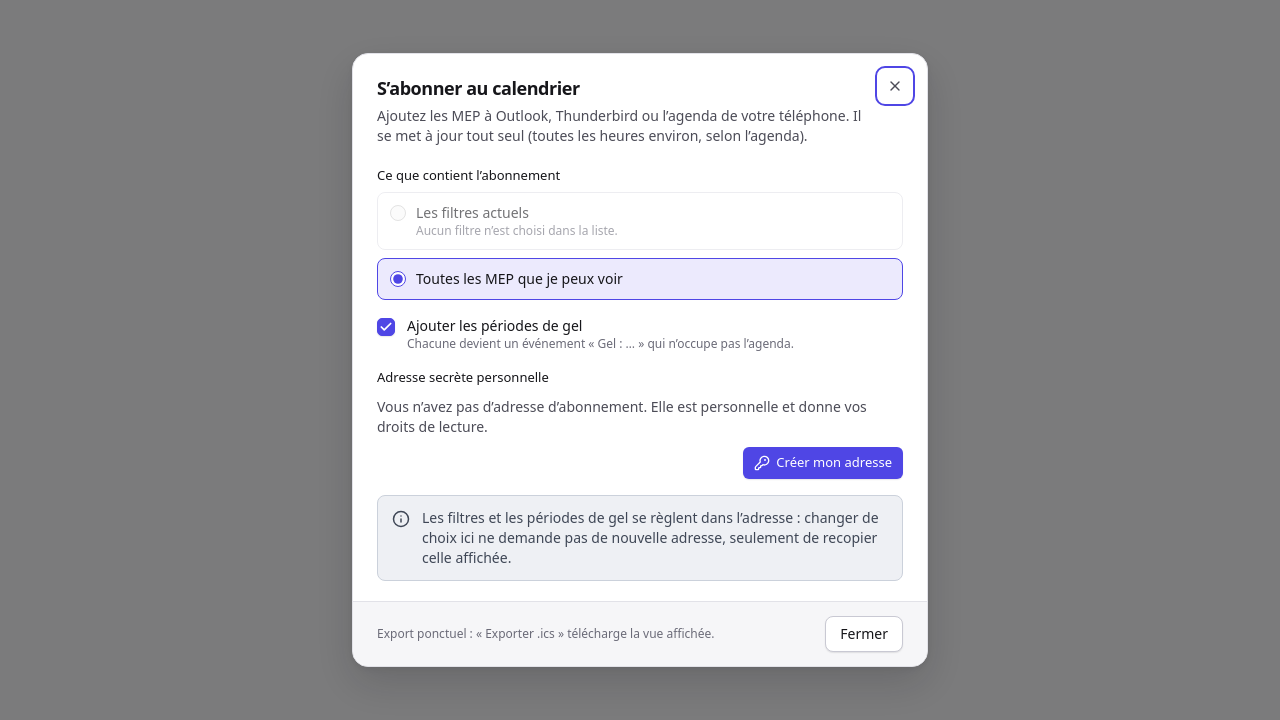
Test: AbonnementDialog › crée l’adresse et ne la montre qu’une fois
Expected: the text "Vous n’avez pas d’adresse d’abonnement" is shown, 377,397 -> 867,436
Click the button "Créer mon adresse" at x=823, y=463, box 743,447 -> 903,479
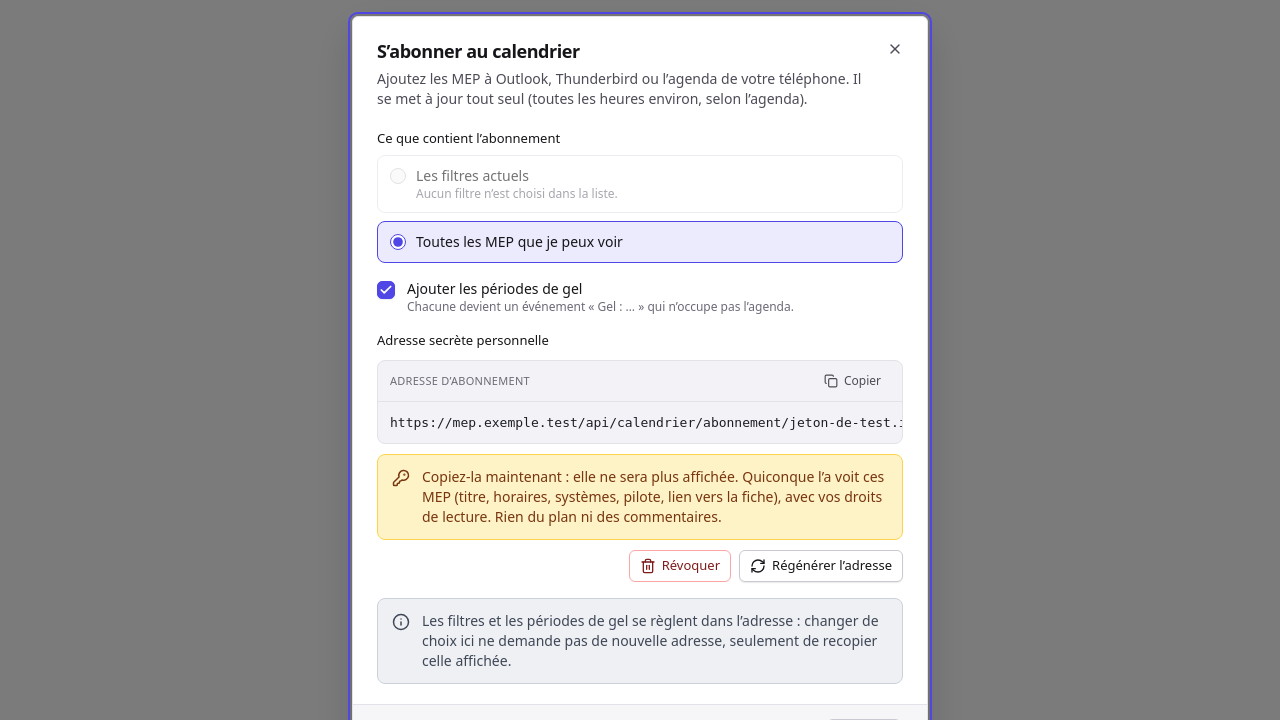
Expected: the text "https://mep.exemple.test/api/calendrier/abonnement/jeton-de-test.ics" is shown, 390,415 -> 902,430
Expected: the text "Copiez-la maintenant : elle ne sera plus affichée" is shown, 422,467 -> 884,526
